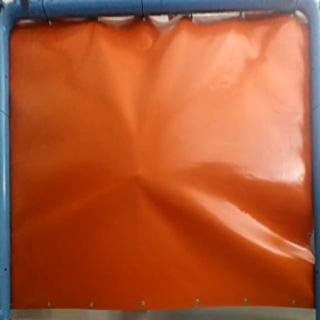Hit-hRxx: (128, 167, 146, 182)
